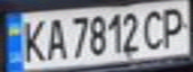1: (106, 10, 124, 55)
2: (121, 8, 145, 53)
7: (66, 12, 90, 60)
8: (87, 11, 109, 56)
A: (42, 15, 69, 62)
C: (139, 6, 169, 52)
K: (18, 16, 48, 64)
P: (157, 3, 190, 50)
